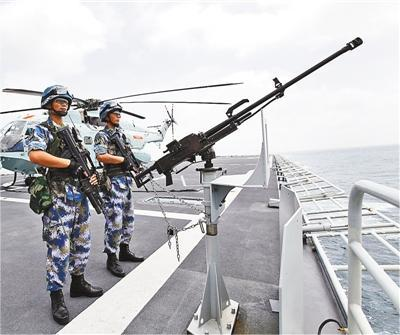up: (25, 81, 99, 322), (89, 98, 147, 276)
